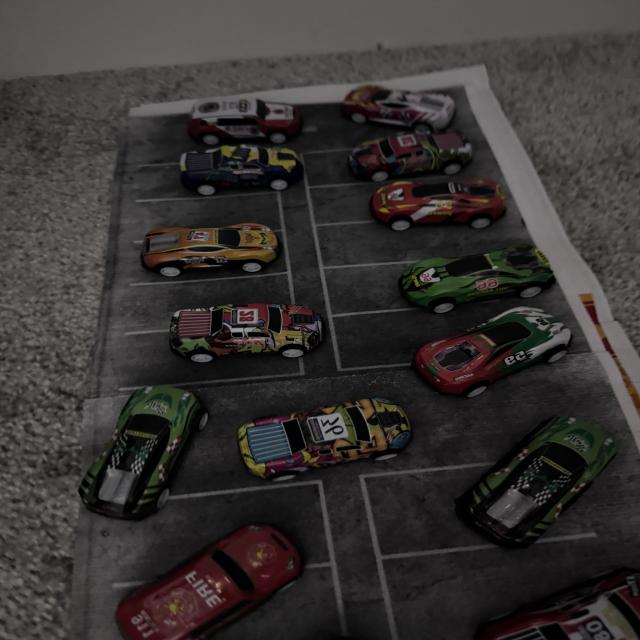Car: (63, 526, 362, 640), (438, 399, 589, 534), (430, 564, 640, 640), (227, 389, 442, 462), (399, 245, 592, 321), (393, 334, 640, 392), (70, 384, 193, 500), (354, 158, 524, 223), (302, 81, 494, 138), (182, 295, 326, 363), (161, 148, 311, 206), (128, 230, 278, 288), (198, 76, 332, 124), (356, 147, 460, 173)
